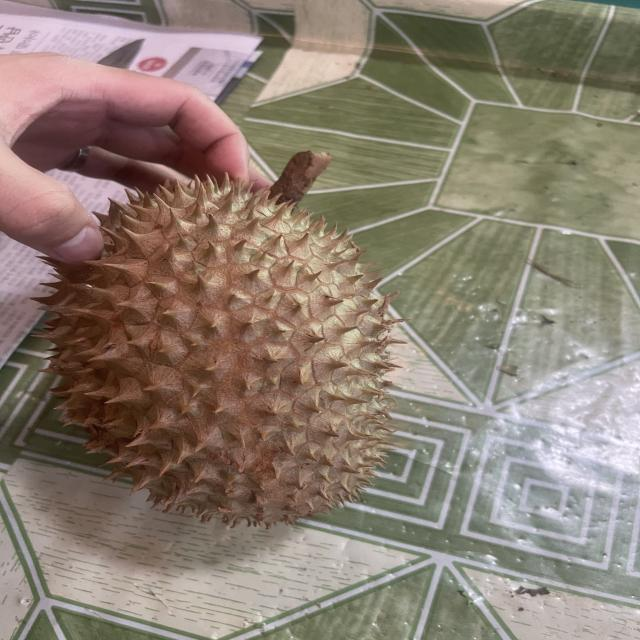mature: (26, 161, 441, 525)
